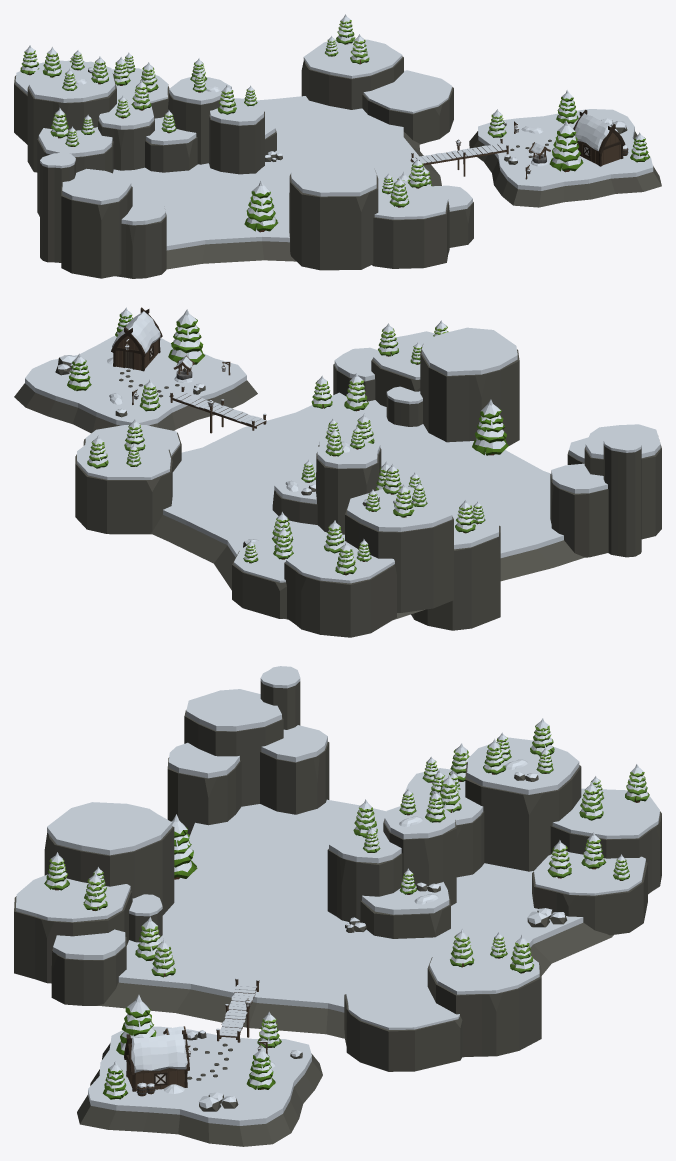
Rendered from Icemap_proto.fbx.
The picture shows the model from 3 angles, top to bottom: view 1: azimuth 30°, elevation 25°; view 2: azimuth 150°, elevation 25°; view 3: azimuth 270°, elevation 25°; orthographic projection. The views are drawn at different scales.
Visible parts, largest first — view 1: Plane.680, Vert.108, Plane.681, Vert.102, Vert.107, Vert.104, Vert.087, Vert.105, Vert.100, Vert.101, Vert.112, Vert.091 (+21 smaller); view 2: Plane.680, Plane.681, Vert.108, Vert.087, Vert.080, Vert.104, Vert.113, Vert.103, Vert.112, Vert.091, Vert.083, Vert.102 (+14 smaller); view 3: Plane.680, Plane.681, Vert.087, Vert.108, Vert.104, Vert.105, Vert.107, Vert.083, Vert.102, Vert.080, Vert.103, Vert.101 (+13 smaller).
Boxes of the visible parts, x1=… form: Plane.680: x1=113, y1=96, x2=441, y2=269; Vert.108: x1=289, y1=156, x2=378, y2=270; Plane.681: x1=469, y1=109, x2=661, y2=207; Vert.102: x1=61, y1=168, x2=132, y2=278; Vert.107: x1=372, y1=181, x2=449, y2=268; Vert.104: x1=301, y1=39, x2=403, y2=109; Vert.087: x1=27, y1=61, x2=116, y2=172; Vert.105: x1=362, y1=70, x2=453, y2=144; Vert.100: x1=209, y1=98, x2=264, y2=174; Vert.101: x1=115, y1=197, x2=166, y2=278; Vert.112: x1=40, y1=153, x2=75, y2=262; Vert.091: x1=168, y1=76, x2=232, y2=164; Plane.680: x1=150, y1=392, x2=584, y2=619; Plane.681: x1=14, y1=335, x2=257, y2=433; Vert.108: x1=420, y1=327, x2=519, y2=445; Vert.087: x1=345, y1=486, x2=453, y2=612; Vert.080: x1=284, y1=538, x2=396, y2=637; Vert.104: x1=75, y1=437, x2=172, y2=534; Vert.113: x1=411, y1=509, x2=500, y2=630; Vert.103: x1=550, y1=463, x2=608, y2=557; Vert.112: x1=603, y1=434, x2=641, y2=557; Vert.091: x1=316, y1=438, x2=378, y2=534; Vert.083: x1=232, y1=537, x2=313, y2=618; Vert.102: x1=584, y1=424, x2=661, y2=539; Plane.680: x1=96, y1=799, x2=613, y2=1038; Plane.681: x1=77, y1=1026, x2=322, y2=1146; Vert.087: x1=465, y1=737, x2=581, y2=871; Vert.108: x1=44, y1=802, x2=174, y2=915; Vert.104: x1=427, y1=941, x2=541, y2=1057; Vert.105: x1=344, y1=981, x2=462, y2=1071; Vert.107: x1=14, y1=874, x2=132, y2=983; Vert.083: x1=532, y1=851, x2=647, y2=935; Vert.102: x1=184, y1=689, x2=283, y2=806; Vert.080: x1=550, y1=788, x2=661, y2=894; Vert.103: x1=260, y1=725, x2=329, y2=814; Vert.101: x1=167, y1=742, x2=241, y2=833.
Size of the model in its own units: 7903 by 1824 by 6050.
Materials: 8 (1 with a texture image).
